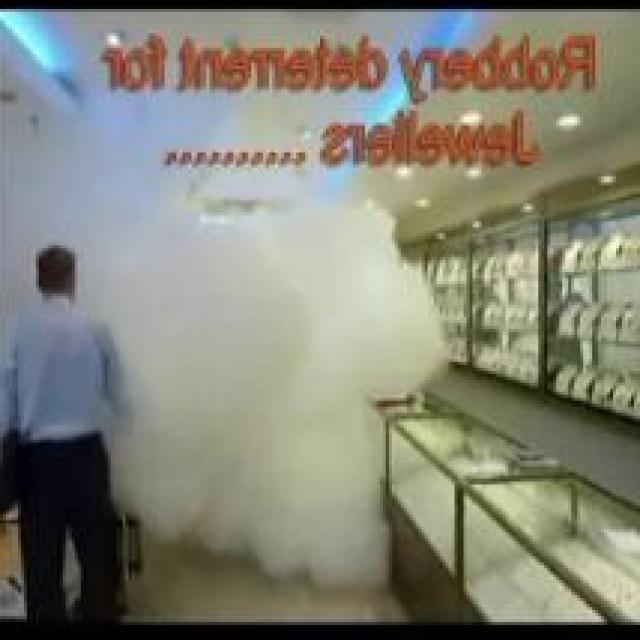fire: (110, 194, 446, 596)
